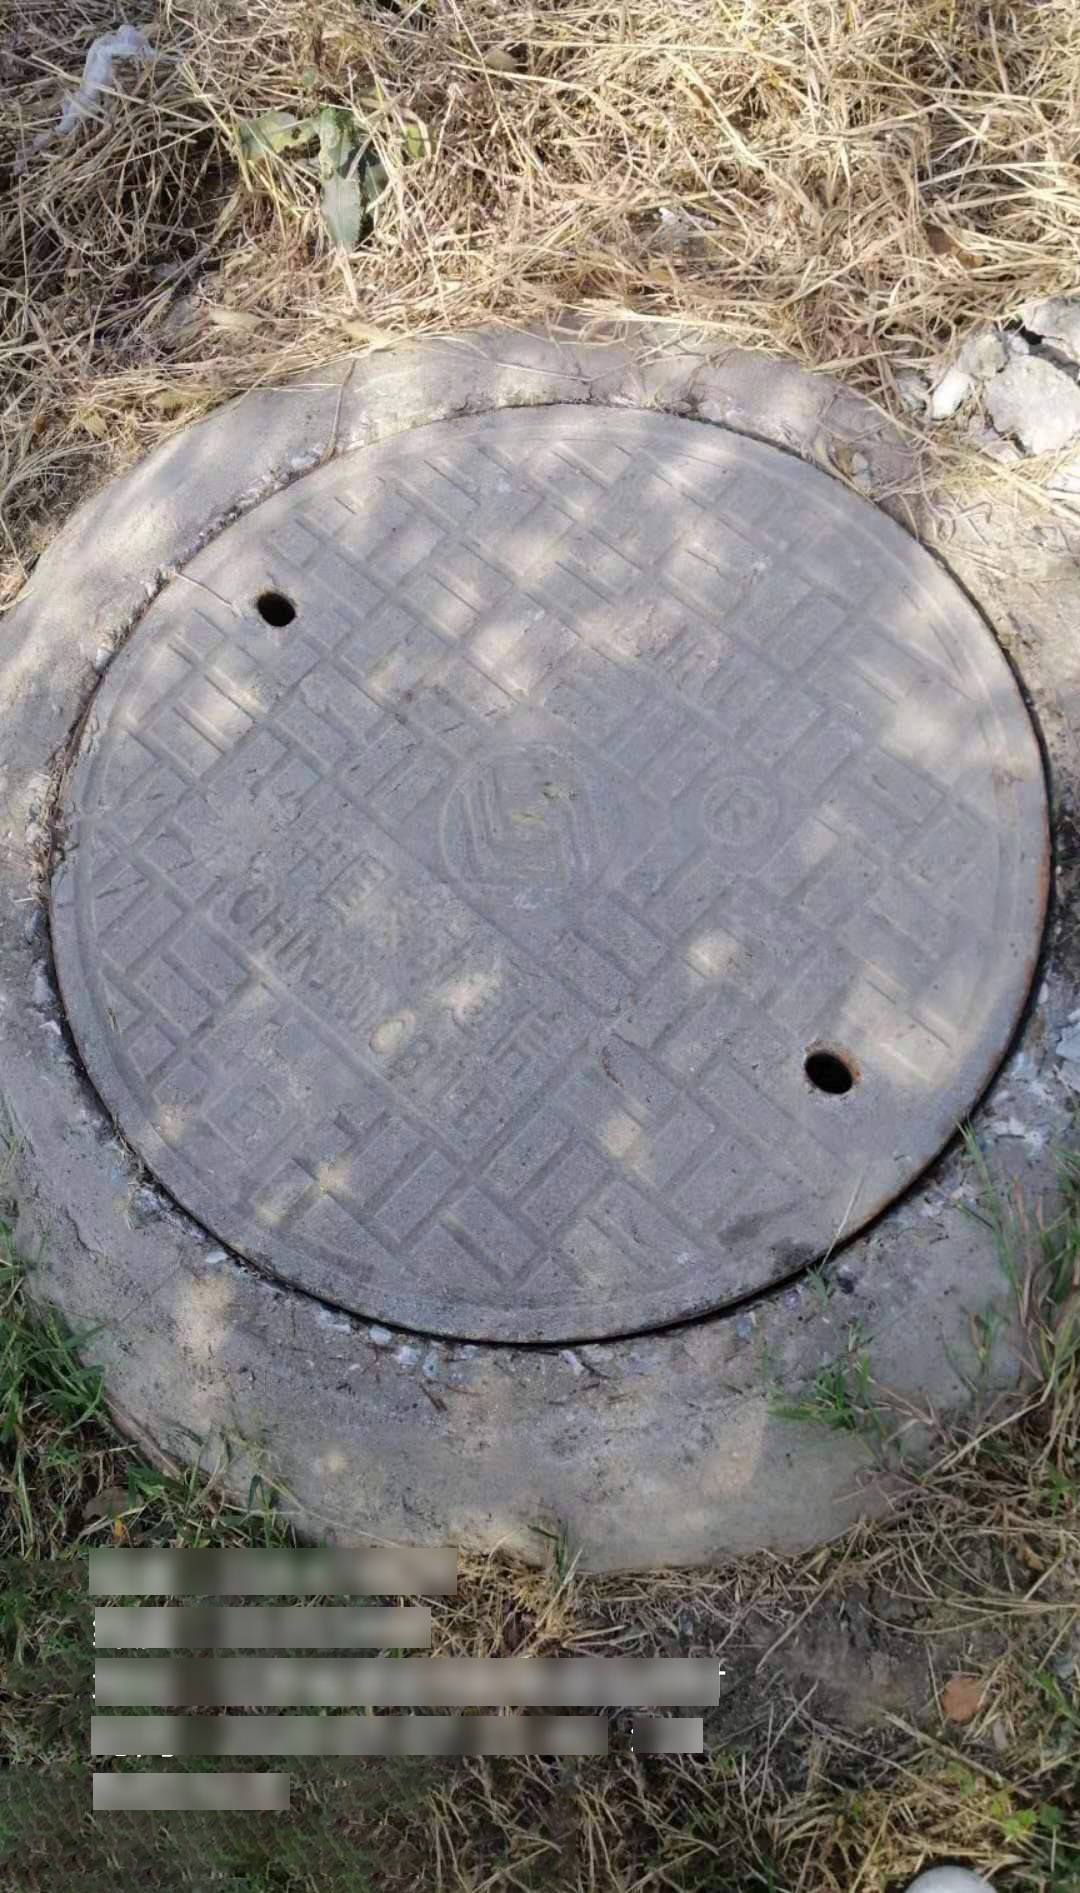good: (1, 334, 1080, 1412)
